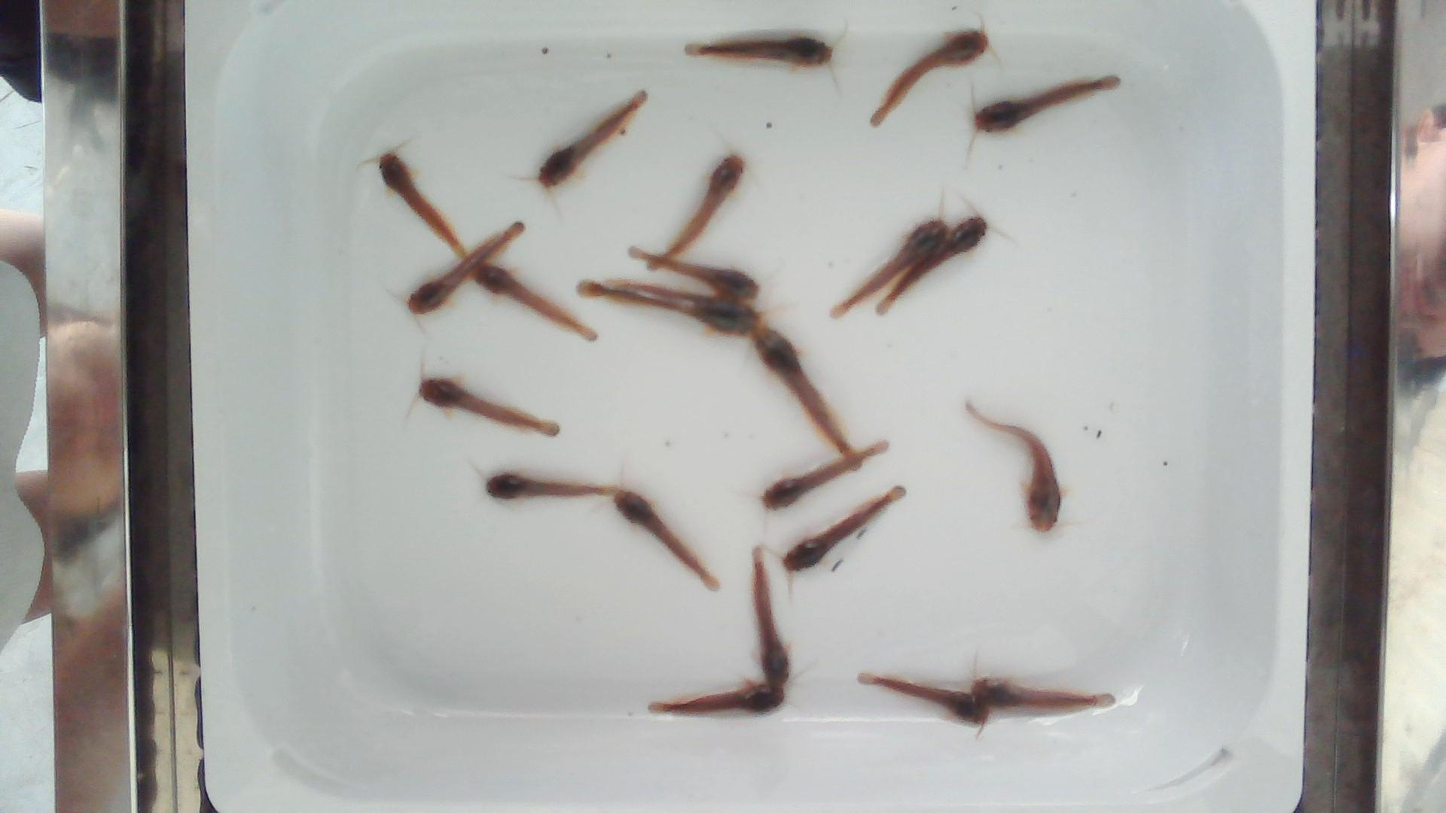lele: (751, 326, 856, 456), (966, 401, 1065, 532), (834, 219, 950, 317), (648, 155, 746, 270), (871, 30, 988, 125), (579, 279, 765, 338), (878, 214, 986, 315), (408, 223, 526, 315), (782, 486, 906, 573), (537, 92, 646, 188), (471, 263, 596, 341), (379, 151, 469, 259), (615, 490, 713, 587), (761, 441, 889, 509), (975, 75, 1120, 133), (419, 377, 560, 436), (858, 672, 985, 726), (629, 248, 758, 301), (752, 545, 790, 690), (685, 32, 833, 67), (649, 681, 785, 715), (972, 680, 1116, 710), (486, 471, 618, 499), (1441, 29, 1445, 38), (1441, 23, 1445, 32)
